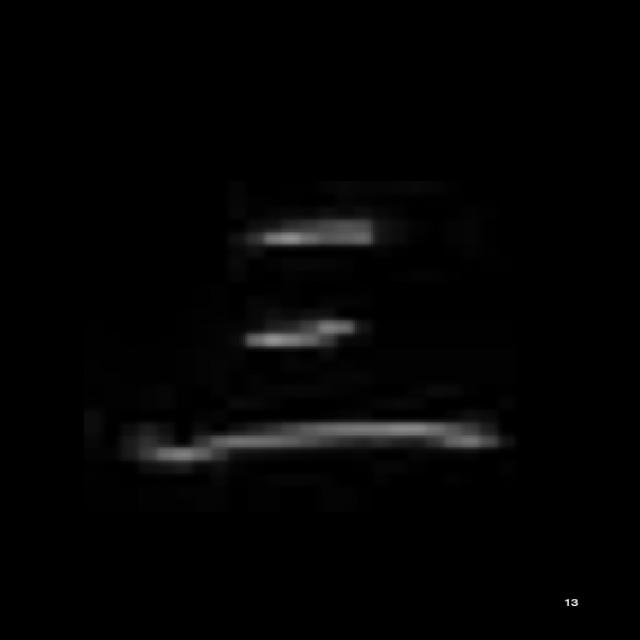3 -three-: (118, 205, 514, 480)
